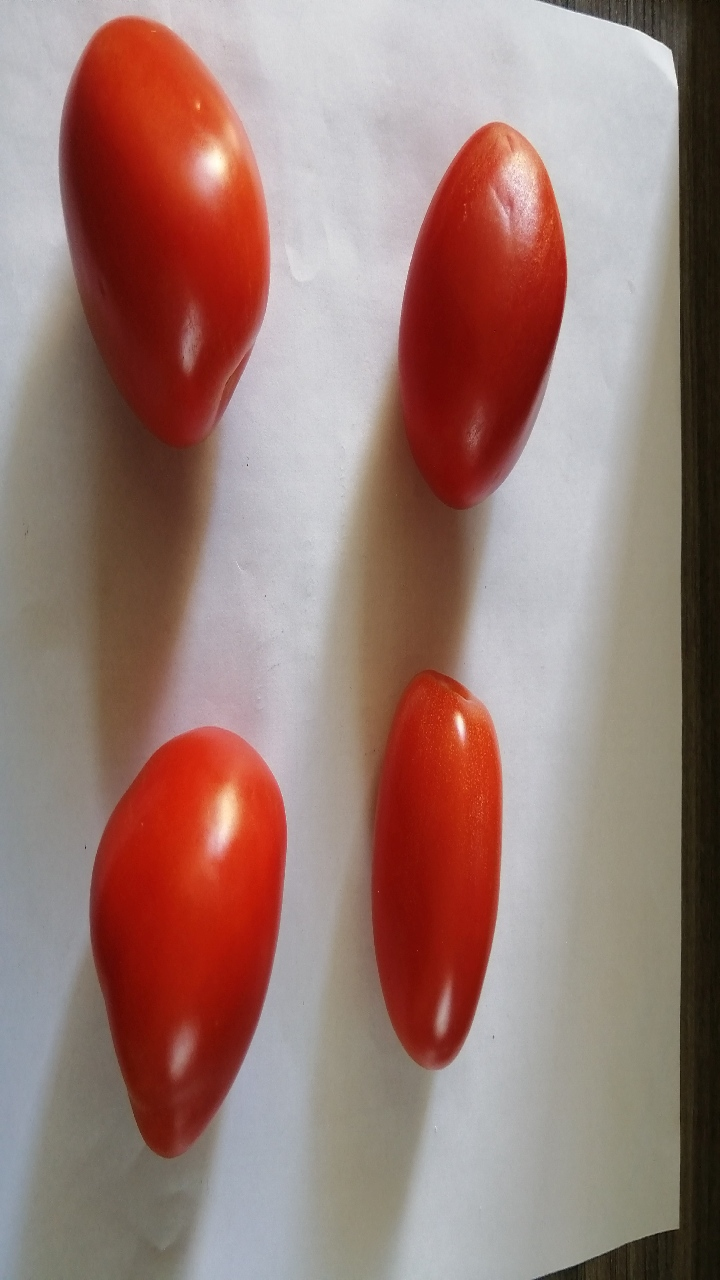tomateRojo: (40, 2, 298, 465), (72, 709, 295, 1172), (366, 99, 574, 535), (344, 660, 532, 1085)
